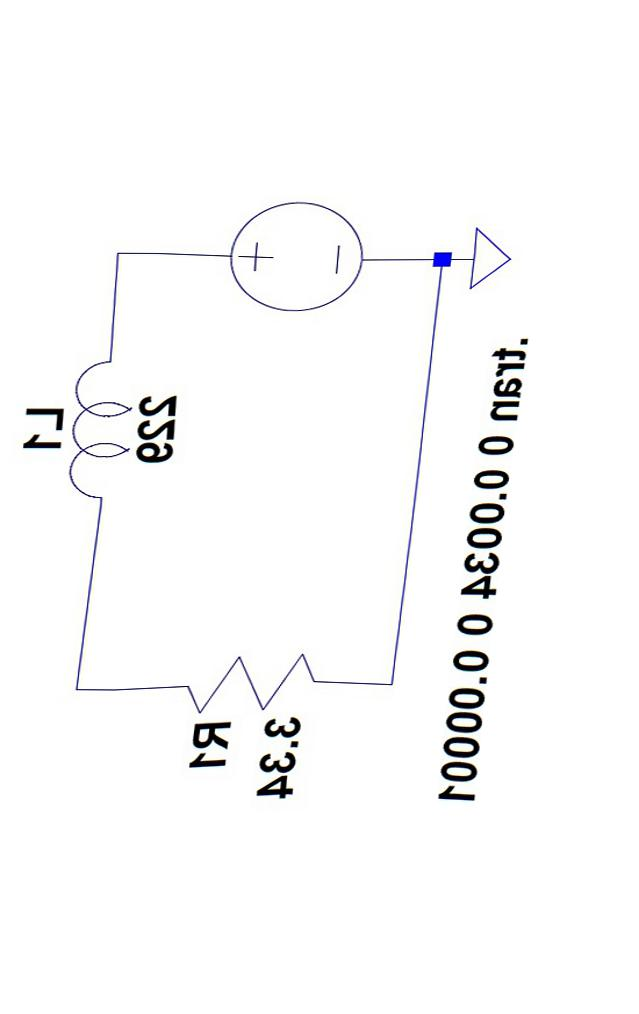Battery: (192, 176, 384, 346)
